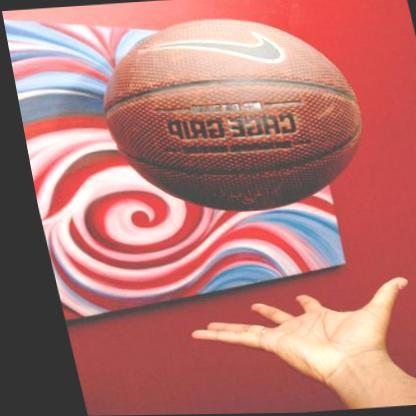basketball: (80, 11, 372, 218)
